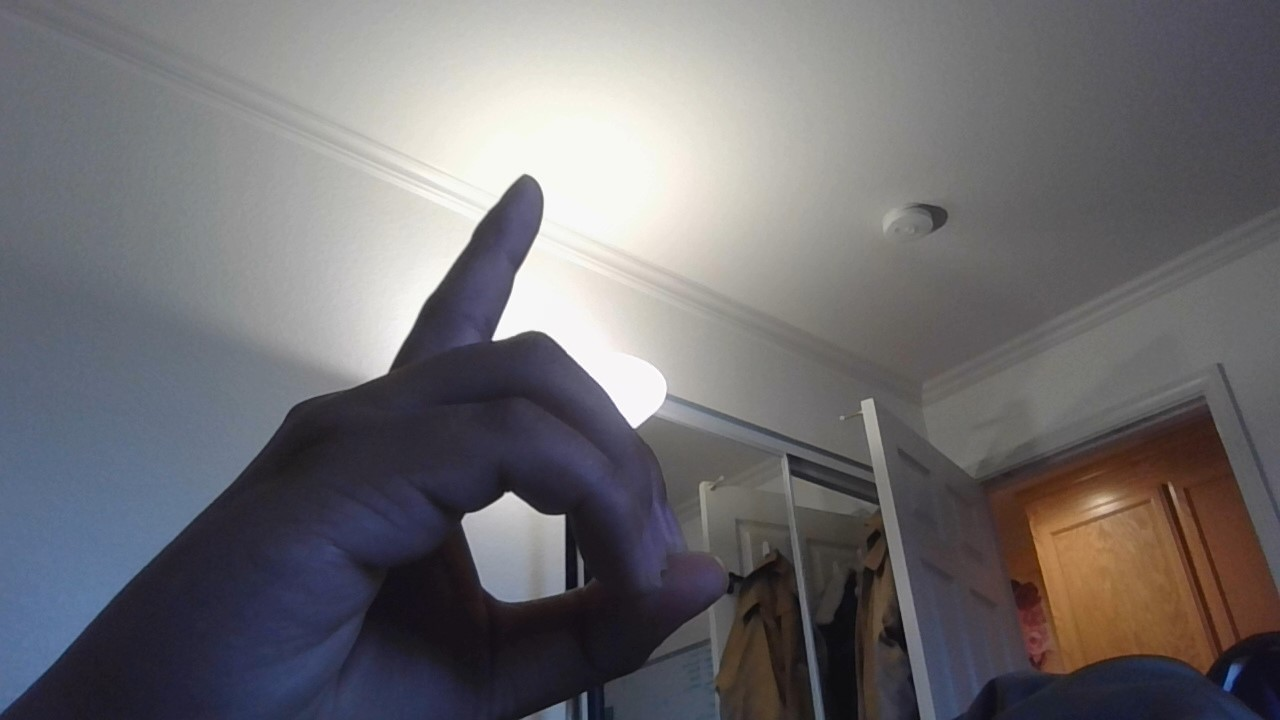d: (15, 149, 776, 720)
